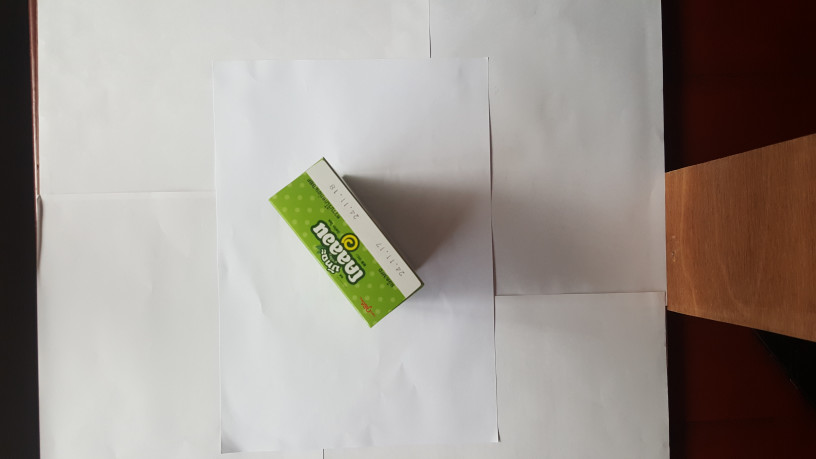collon-matcha: (268, 157, 427, 329)
